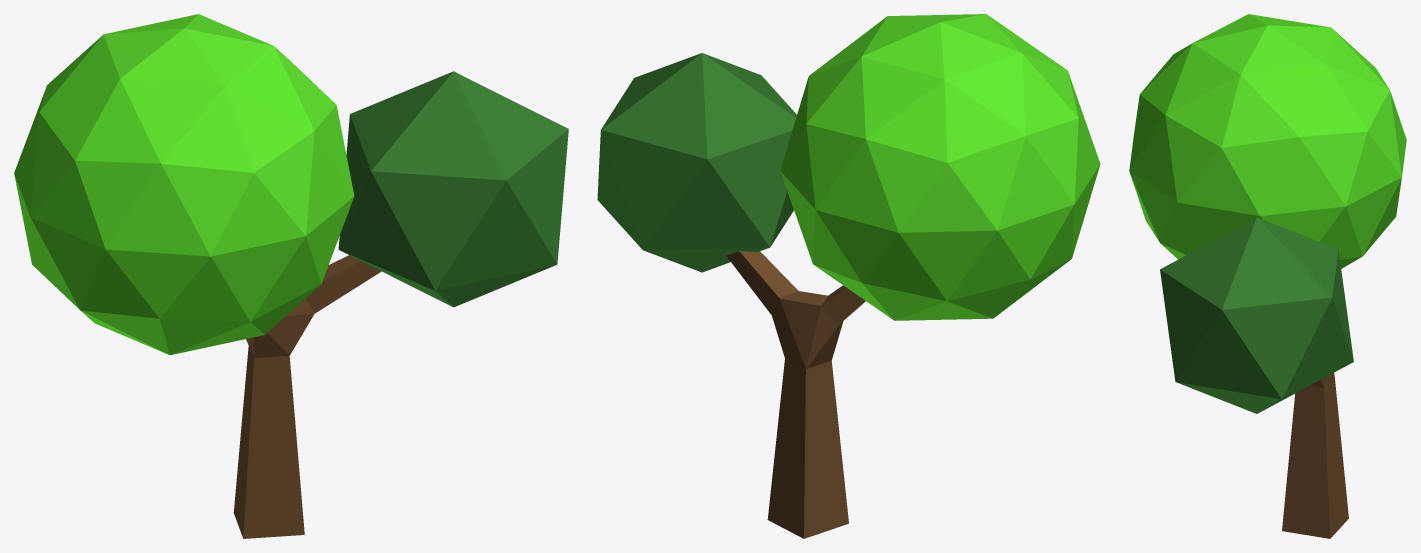
File: scondTree.fbx
The picture shows the model from 3 angles, left to right: view 1: azimuth 30°, elevation 25°; view 2: azimuth 150°, elevation 25°; view 3: azimuth 270°, elevation 25°; orthographic projection. The views are drawn at different scales.
Visible parts, largest first — view 1: treeTwo; view 2: treeTwo; view 3: treeTwo.
Boxes of the visible parts, <box> form: treeTwo: <box>14,14,568,538</box>; treeTwo: <box>597,14,1100,538</box>; treeTwo: <box>1129,14,1406,538</box>.
Size of the model in its own units: 451 by 461 by 256.
